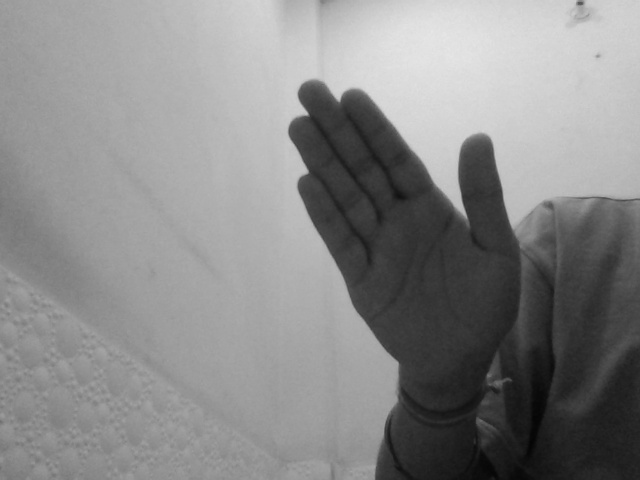Hello: (285, 75, 522, 391)
